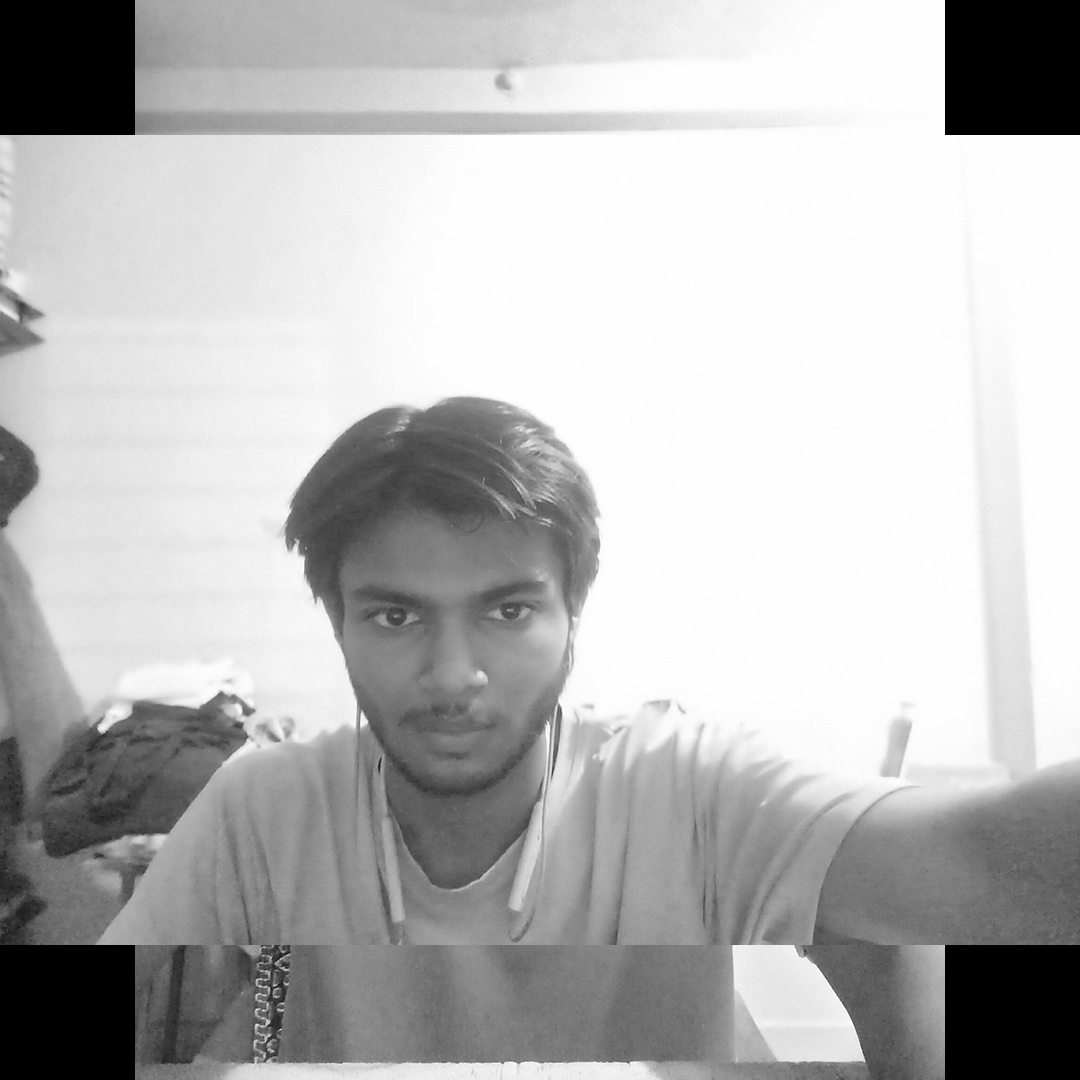Focused: (156, 249, 771, 922)
